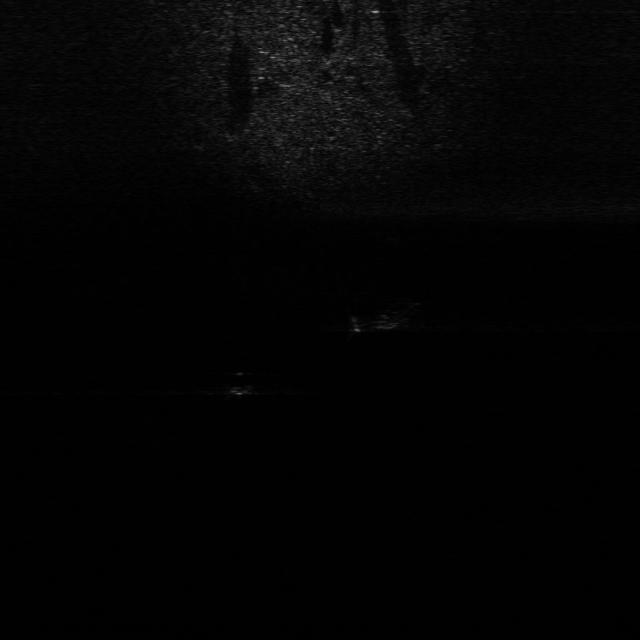ball: (212, 367, 260, 398)
human body: (336, 294, 426, 340)
